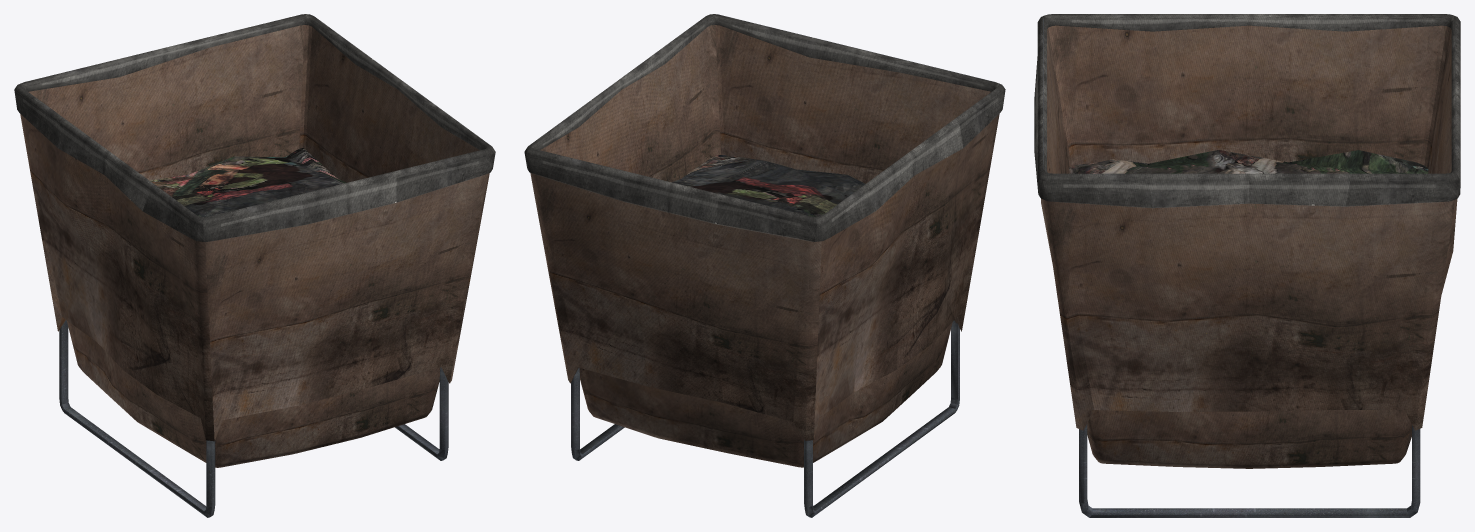
Rendered from Washing Basket.FBX.
3 views of the same model, side by side, from view 1: azimuth 30°, elevation 25°; view 2: azimuth 150°, elevation 25°; view 3: azimuth 270°, elevation 25° (orthographic). The views are drawn at different scales.
Parts seen in each view (by area): view 1: Washing Basket, Clothes Pile; view 2: Washing Basket, Clothes Pile; view 3: Washing Basket, Clothes Pile.
Part boxes in pixels (<box>): Washing Basket: <box>14,14,495,517</box>; Clothes Pile: <box>150,148,346,216</box>; Washing Basket: <box>524,14,1005,517</box>; Clothes Pile: <box>672,155,865,216</box>; Washing Basket: <box>1034,14,1460,517</box>; Clothes Pile: <box>1069,150,1428,173</box>.
Size of the model in its own units: 0.8623 by 0.8581 by 0.9211.
